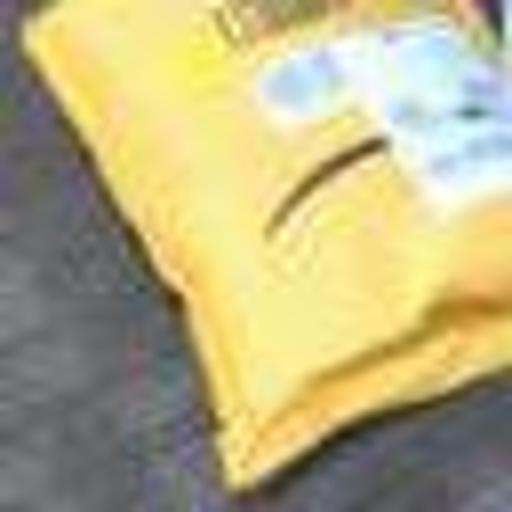Amazon: (29, 0, 512, 471)
